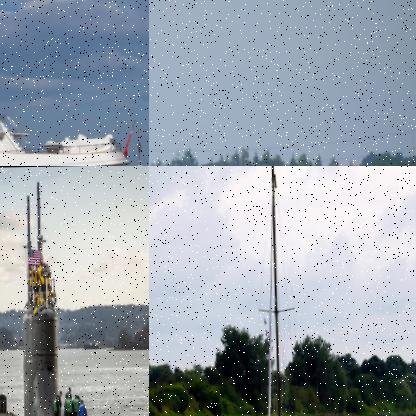Sails Boat: (250, 166, 318, 415)
Submarine: (0, 178, 148, 415)
Yacht: (0, 49, 148, 165)
